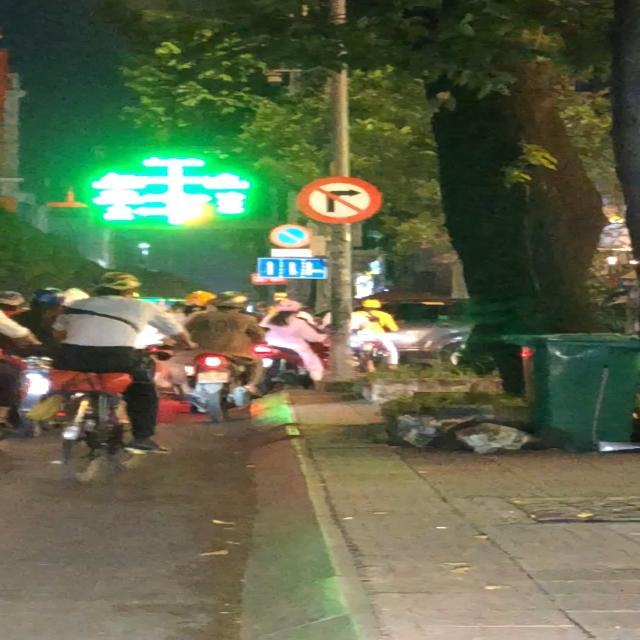Bien bao cam re phai: (294, 175, 384, 226)
